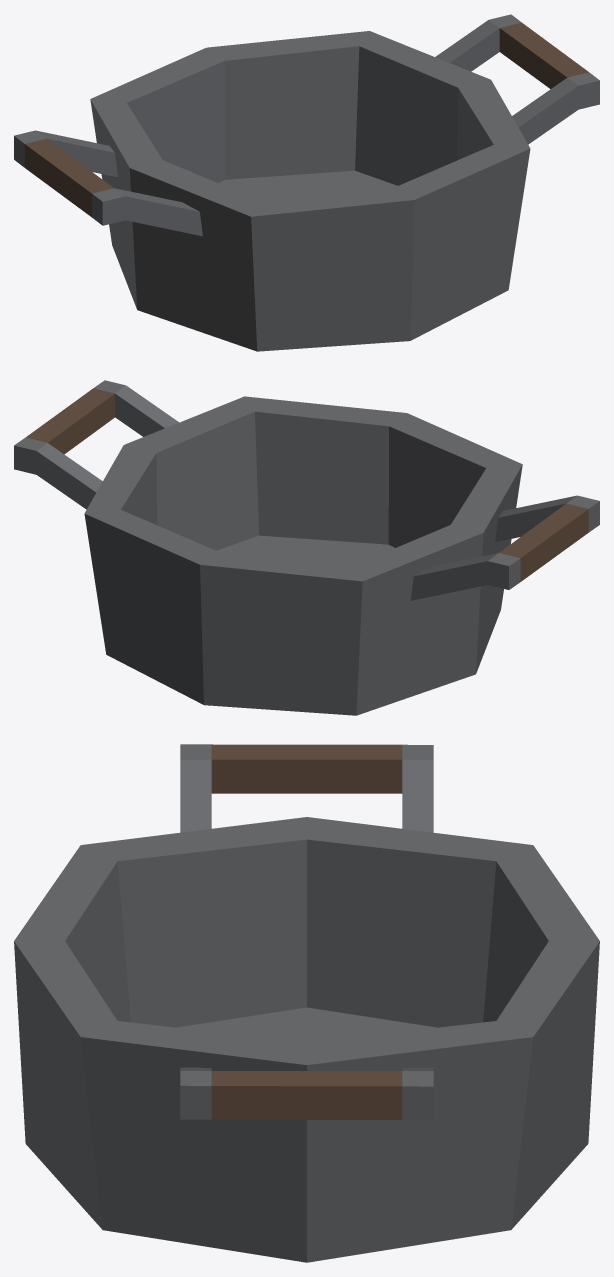
Rendered from potLowSteel.fbx.
3 renders of one model, top to bottom at view 1: azimuth 30°, elevation 25°; view 2: azimuth 150°, elevation 25°; view 3: azimuth 270°, elevation 25°, orthographic. The views are drawn at different scales.
Parts seen in each view (by area): view 1: potLowSteel; view 2: potLowSteel; view 3: potLowSteel.
Part boxes in pixels (<box>): potLowSteel: <box>14,14,599,351</box>; potLowSteel: <box>14,380,599,715</box>; potLowSteel: <box>14,744,599,1262</box>.
Bounding box in the file's own units: 42.17 × 12.98 × 30.5.
1 material, 1 textured.
